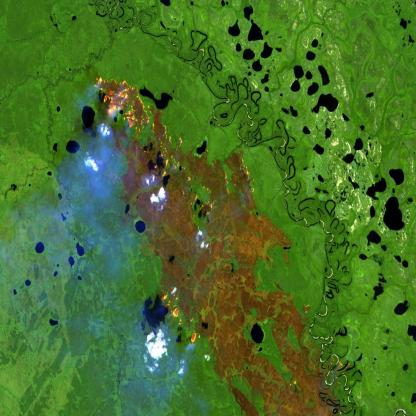fire: (88, 70, 192, 183), (156, 276, 204, 353)
